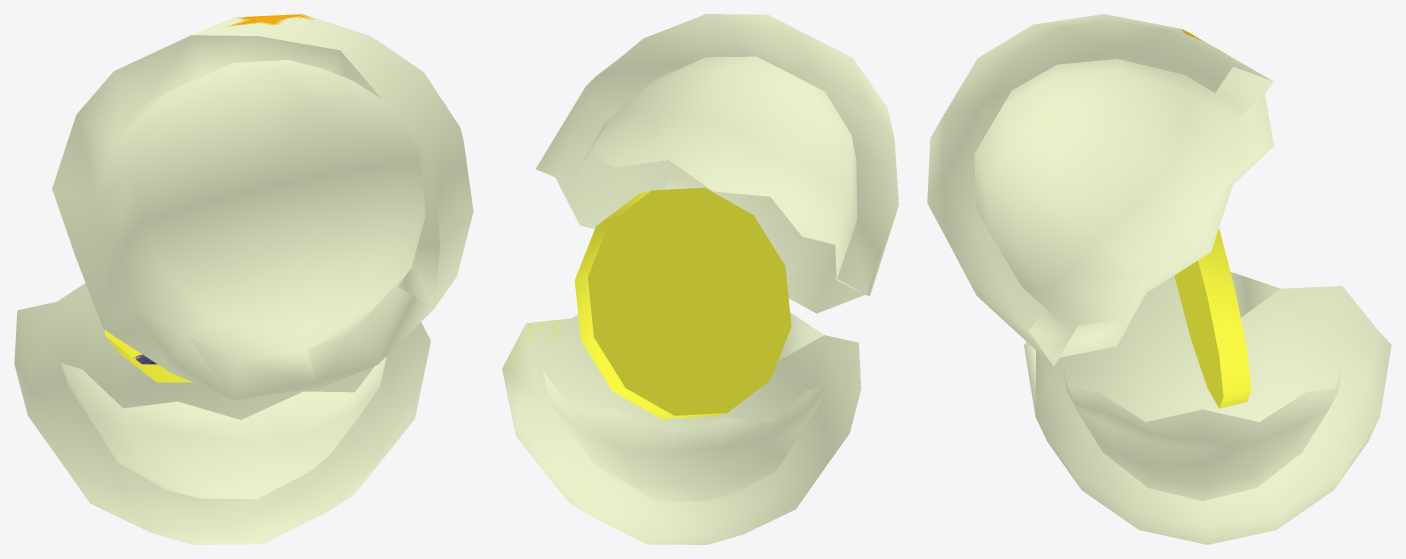
Rendered from ps2_save-icons_dokapondxwatarusekaiwaonidarake.glb.
3 views of the same model, side by side, from view 1: azimuth 30°, elevation 25°; view 2: azimuth 150°, elevation 25°; view 3: azimuth 270°, elevation 25° (orthographic). The views are drawn at different scales.
Parts seen in each view (by area): view 1: icon.ico; view 2: icon.ico; view 3: icon.ico.
Boxes of the visible parts, x1,y1,x2,y2 form: icon.ico: [14, 14, 473, 544]; icon.ico: [502, 14, 898, 544]; icon.ico: [927, 14, 1391, 544].
Size of the model in its own units: 3.18 by 4.56 by 3.86.
1 material, 1 textured.
